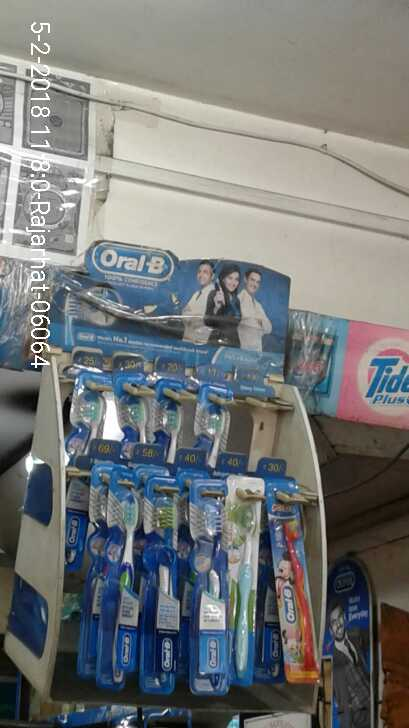oralb: (265, 490, 323, 688), (193, 484, 230, 691), (228, 474, 262, 683), (146, 479, 178, 693), (110, 480, 137, 686)
